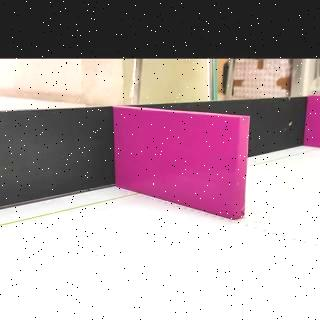xparking: (114, 116, 242, 219)
